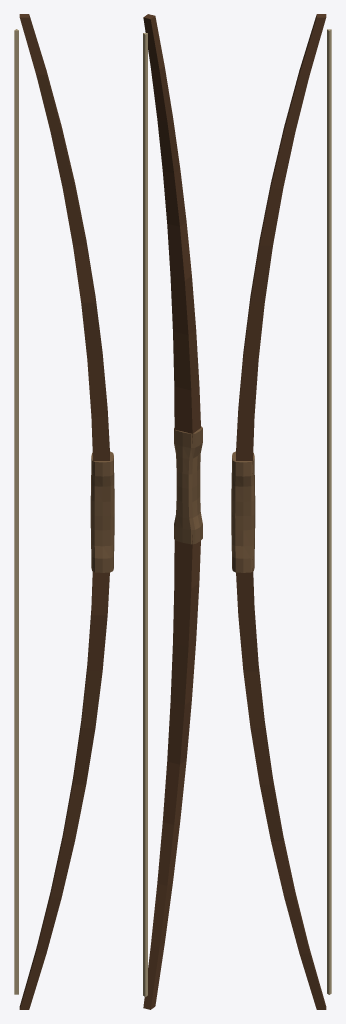
The model's file is bow.glb.
3 views of the same model, side by side, from view 1: azimuth 90°, elevation 25°; view 2: azimuth 150°, elevation 25°; view 3: azimuth 270°, elevation 25° (orthographic).
Visible parts, largest first — view 1: bow; view 2: bow; view 3: bow.
Boxes of the visible parts, box(x1,y1,x2,y2) form: bow: box(14, 14, 114, 1009); bow: box(143, 14, 202, 1009); bow: box(231, 14, 331, 1009).
Size of the model in its own units: 0.0344 by 1.4 by 0.1287.
